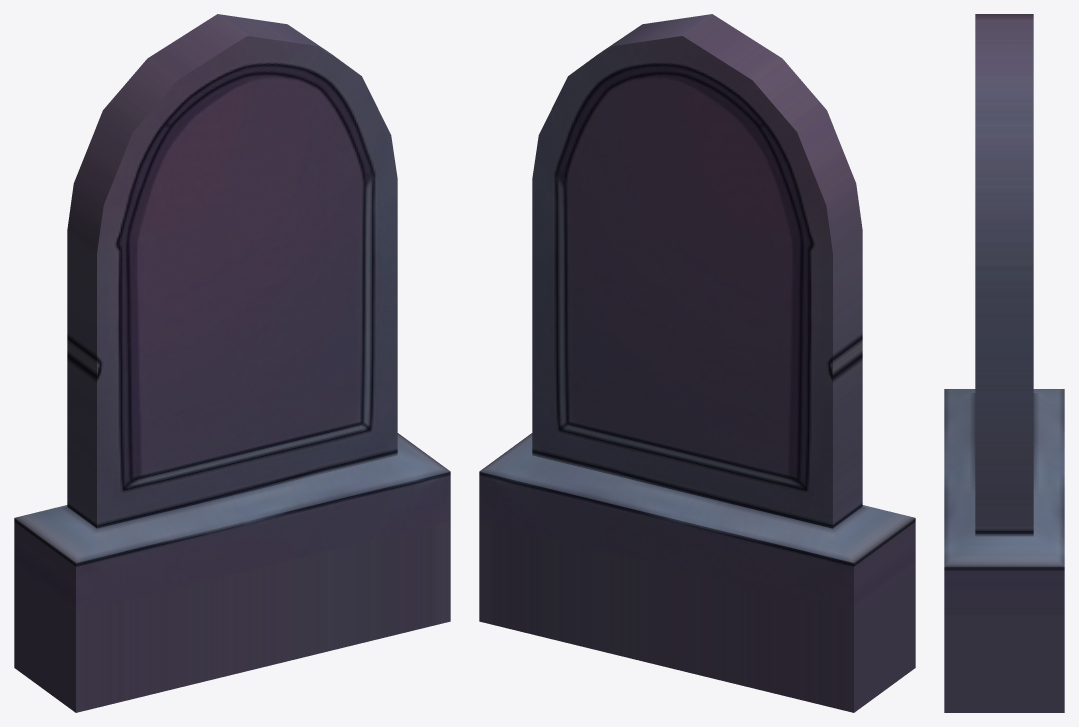
Rendered from Gravestone02.glb.
3 views of the same model, side by side, from view 1: azimuth 30°, elevation 25°; view 2: azimuth 150°, elevation 25°; view 3: azimuth 270°, elevation 25° (orthographic). The views are drawn at different scales.
Parts seen in each view (by area): view 1: Gravestone02; view 2: Gravestone02; view 3: Gravestone02.
Part boxes in pixels (x1,y1,x2,y2): Gravestone02: (14,14,450,712); Gravestone02: (479,14,915,712); Gravestone02: (944,14,1064,712).
Bounding box in the file's own units: 4.77 × 7.53 × 1.36.
Materials: 1 (1 with a texture image).
